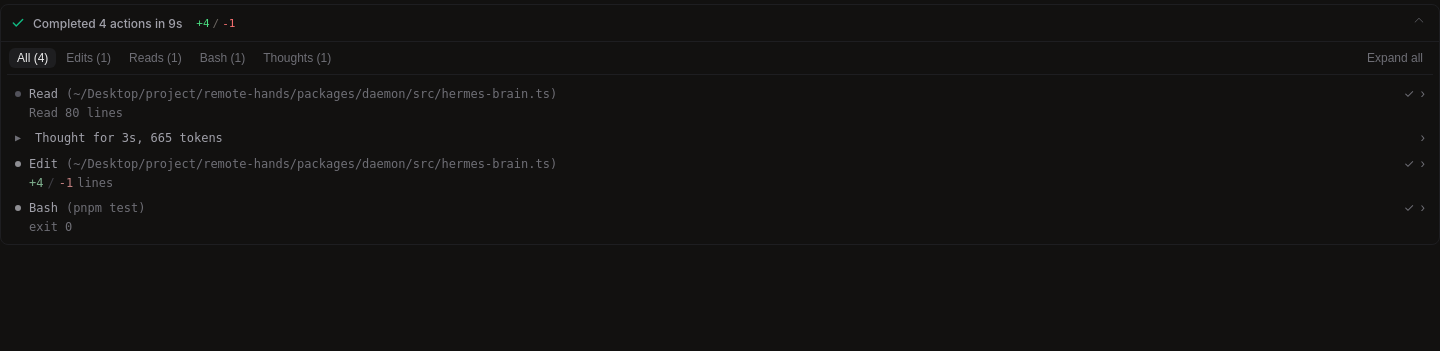
Test: StepsDropdown › expands bash terminal console when bash item is clicked
Expected: the text "Tests passed: 12 suites, 67 tests" is not shown
What coordinates should you click on to do the following:
click the text "Bash"
I would click on:
 (43, 208)
Its box is [29, 200, 58, 214].
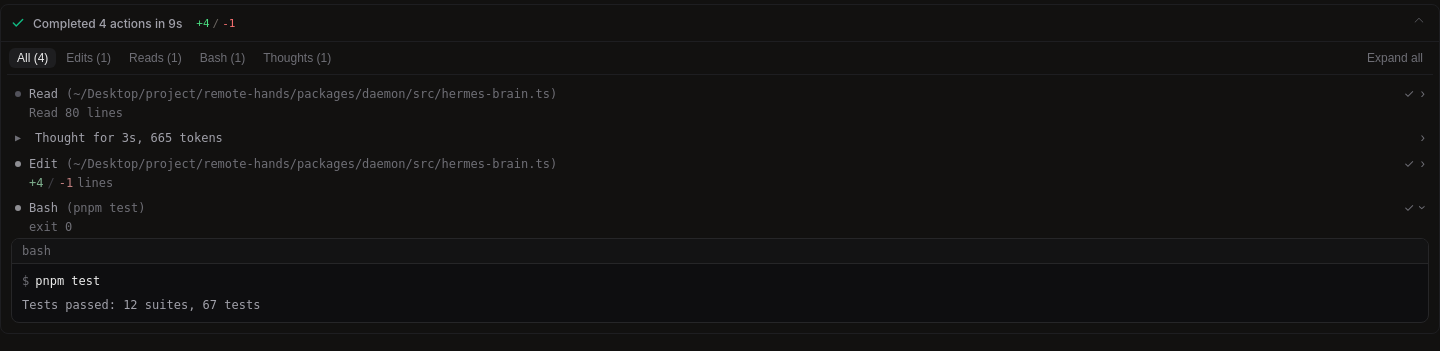
Expected: the text "Tests passed: 12 suites, 67 tests" is shown, [22, 298, 260, 312]
Expected: the text "$" is shown, [22, 272, 29, 290]
